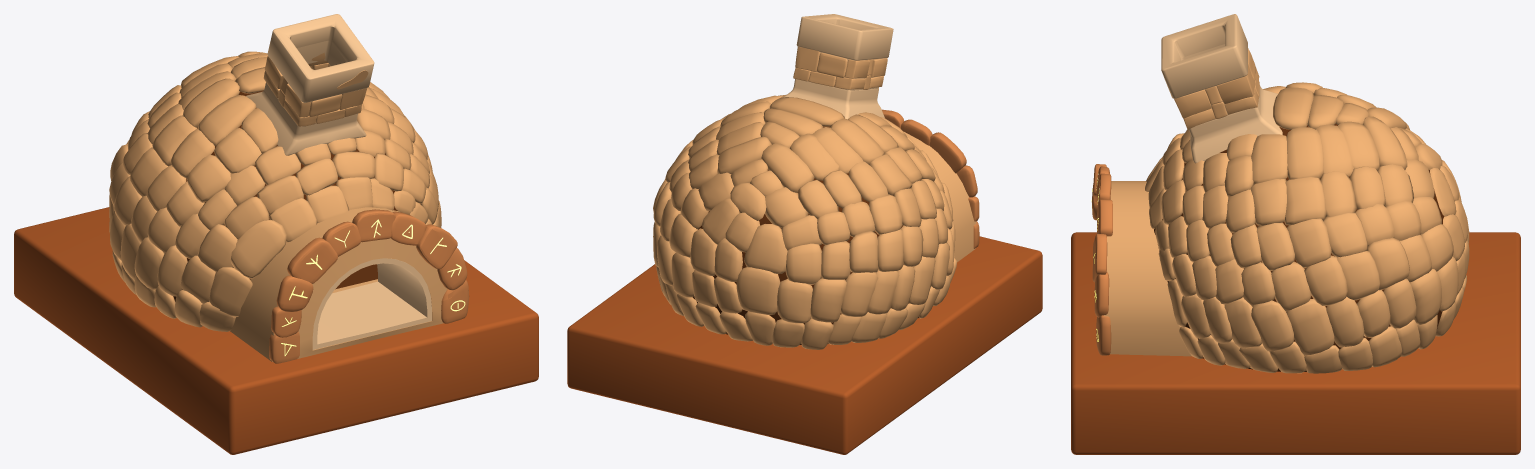
The model's file is 250508-STONE OVEN PIZZA.fbx.
The picture shows the model from 3 angles, left to right: view 1: azimuth 30°, elevation 25°; view 2: azimuth 150°, elevation 25°; view 3: azimuth 270°, elevation 25°; orthographic projection. The views are drawn at different scales.
Parts seen in each view (by area): view 1: Cube.016, Cube.158, Cylinder, Cube.071, Cylinder.001, Cylinder.002, Cube.001, Batu bata asap.003, Cube.008, Cube.003, Cube.010, Cube.007 (+8 smaller); view 2: Cube.158, Cube.016, Cube.071, Batu bata asap.003, Cylinder.002, Cube.001, Cube.008, Cube.014, Sphere, Cube.009; view 3: Cube.158, Cube.016, Cylinder.002, Cube.071, Cube.001, Batu bata asap.003, Cube.003, Cube.012, Cube.013, Cube.011, Sphere.
Part boxes in pixels (box(x1,y1,x2,y2)): Cube.016: box(14, 207, 538, 454); Cube.158: box(109, 51, 441, 331); Cylinder: box(312, 258, 431, 349); Cube.071: box(267, 14, 374, 102); Cylinder.001: box(297, 238, 447, 358); Cylinder.002: box(230, 207, 399, 361); Cube.001: box(246, 82, 366, 155); Batu bata asap.003: box(263, 52, 367, 126); Cube.008: box(287, 237, 337, 283); Cube.003: box(416, 224, 457, 269); Cube.010: box(352, 209, 395, 242); Cube.007: box(276, 275, 313, 311); Cube.158: box(653, 94, 956, 349); Cube.016: box(567, 236, 1042, 454); Cube.071: box(796, 14, 893, 60); Batu bata asap.003: box(793, 46, 887, 89); Cylinder.002: box(904, 132, 976, 262); Cube.001: box(783, 79, 884, 119); Cube.008: box(929, 132, 966, 173); Cube.014: box(817, 52, 847, 77); Sphere: box(693, 126, 921, 344); Cube.009: box(901, 119, 932, 145); Cube.158: box(1145, 82, 1469, 373); Cube.016: box(1071, 232, 1520, 454); Cylinder.002: box(1104, 181, 1191, 356); Cube.071: box(1161, 14, 1247, 98); Cube.001: box(1189, 85, 1282, 163); Batu bata asap.003: box(1174, 48, 1259, 129); Cube.003: box(1092, 234, 1107, 282); Cube.012: box(1094, 271, 1109, 317); Cube.013: box(1096, 315, 1111, 355); Cube.011: box(1097, 199, 1112, 236); Sphere: box(1154, 124, 1444, 371).
Bounding box in the file's own units: 179 × 188 × 219.
